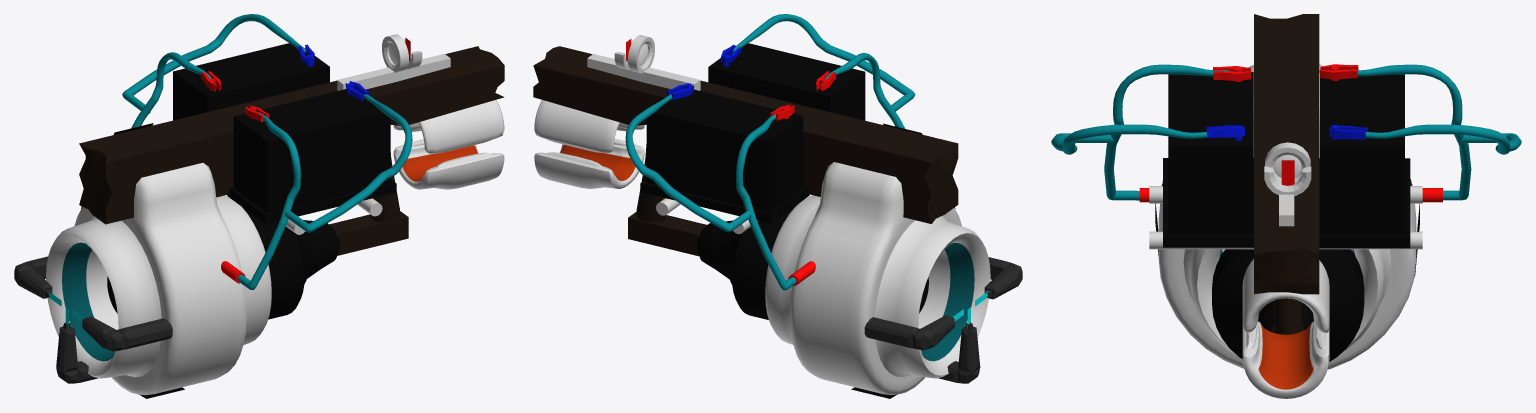
File: with uv.fbx
3 views of the same model, side by side, from view 1: azimuth 30°, elevation 25°; view 2: azimuth 150°, elevation 25°; view 3: azimuth 270°, elevation 25° (orthographic). The views are drawn at different scales.
Visible parts, largest first — view 1: Cylinder001, Box001, Box005, Box008, Cylinder002, Loft002, Cylinder016, Cylinder015, Loft001, Box013, Box004, Box012 (+4 smaller); view 2: Cylinder001, Box001, Box008, Box005, Cylinder002, Loft002, Cylinder016, Cylinder015, Loft001, Box013, Box003, Box012 (+4 smaller); view 3: Box001, Box008, Box005, Cylinder001, Cylinder002, Cylinder016, Loft001, Loft002, Cylinder015, Cylinder013, Cylinder009, Cylinder011 (+7 smaller).
Boxes of the visible parts, <box> form: Cylinder001: <box>46,162,271,395</box>; Box001: <box>79,46,504,224</box>; Box005: <box>227,89,396,224</box>; Box008: <box>173,43,329,120</box>; Cylinder002: <box>107,207,339,319</box>; Loft002: <box>122,14,412,232</box>; Cylinder016: <box>393,139,504,189</box>; Cylinder015: <box>393,100,504,153</box>; Loft001: <box>131,52,300,289</box>; Box013: <box>329,211,408,255</box>; Box004: <box>82,316,172,351</box>; Box012: <box>337,53,450,90</box>; Cylinder001: <box>765,162,990,394</box>; Box001: <box>533,46,958,223</box>; Box008: <box>640,89,809,223</box>; Box005: <box>708,43,865,120</box>; Cylinder002: <box>697,204,928,319</box>; Loft002: <box>625,14,915,232</box>; Cylinder016: <box>534,138,644,188</box>; Cylinder015: <box>534,100,644,152</box>; Loft001: <box>736,53,905,290</box>; Box013: <box>628,211,706,256</box>; Box003: <box>864,315,954,350</box>; Box012: <box>587,54,700,90</box>; Box001: <box>1254,14,1319,294</box>; Box008: <box>1319,74,1410,248</box>; Box005: <box>1163,72,1253,247</box>; Cylinder001: <box>1158,64,1416,369</box>; Cylinder002: <box>1212,249,1364,361</box>; Cylinder016: <box>1242,321,1329,398</box>; Loft001: <box>1104,64,1471,200</box>; Loft002: <box>1051,124,1521,154</box>; Cylinder015: <box>1242,259,1329,333</box>; Cylinder013: <box>1274,298,1302,334</box>; Cylinder009: <box>1149,231,1422,249</box>; Cylinder011: <box>1265,142,1310,182</box>.
Size of the model in its own units: 125 by 79.28 by 95.33.
